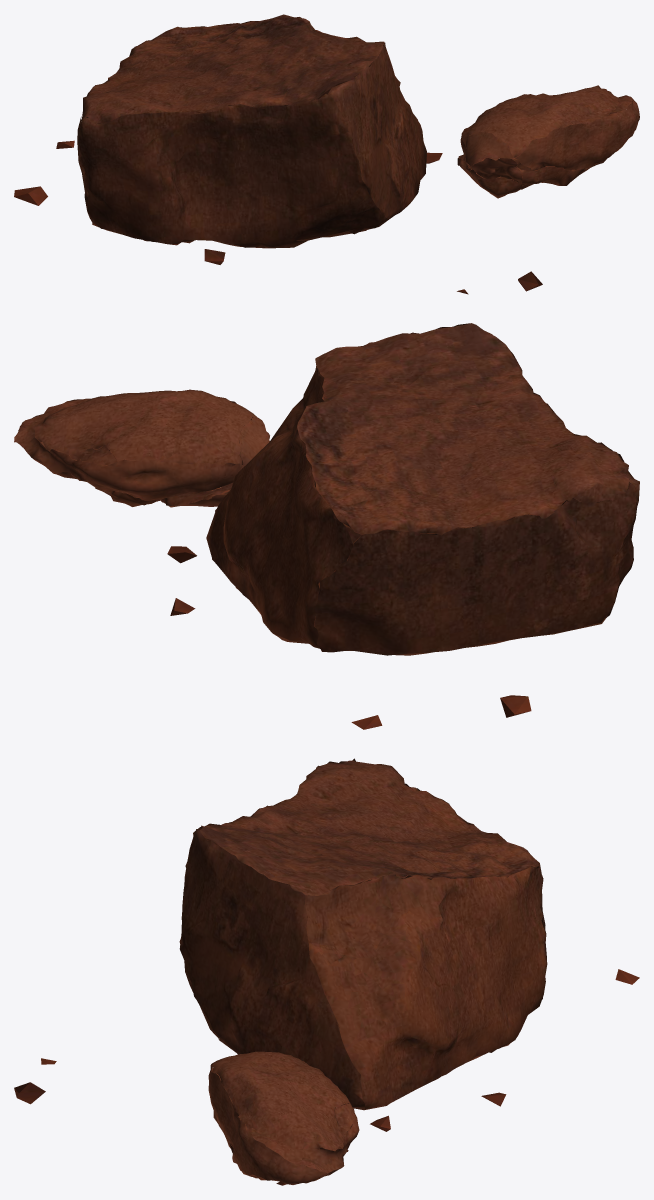
Rendered from rock_large.glb.
The picture shows the model from 3 angles, top to bottom: view 1: azimuth 30°, elevation 25°; view 2: azimuth 150°, elevation 25°; view 3: azimuth 270°, elevation 25°; orthographic projection. The views are drawn at different scales.
Visible parts, largest first — view 1: rock_large; view 2: rock_large; view 3: rock_large.
Boxes of the visible parts, x1,y1,x2,y2 form: rock_large: (14, 14, 639, 294); rock_large: (14, 323, 639, 729); rock_large: (14, 758, 639, 1185).
Bounding box in the file's own units: 4.94 × 1.62 × 4.31.
Materials: 1 (1 with a texture image).
